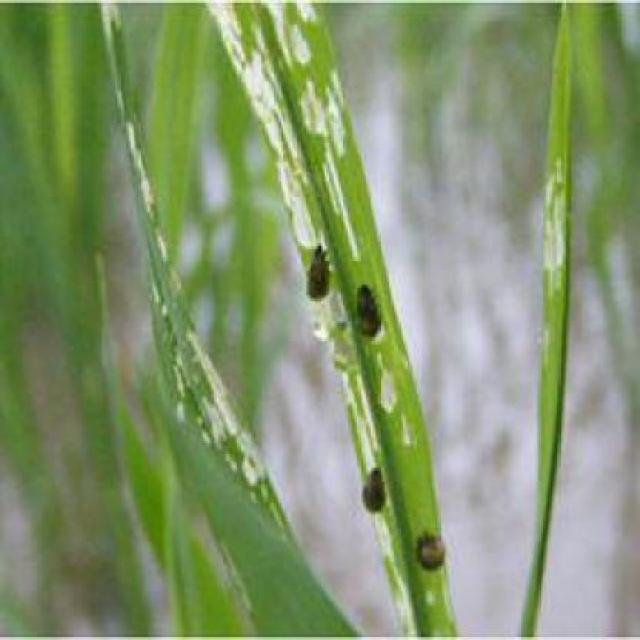rice-bug: (412, 524, 451, 576), (302, 243, 336, 302), (355, 283, 388, 339), (362, 463, 392, 515)
